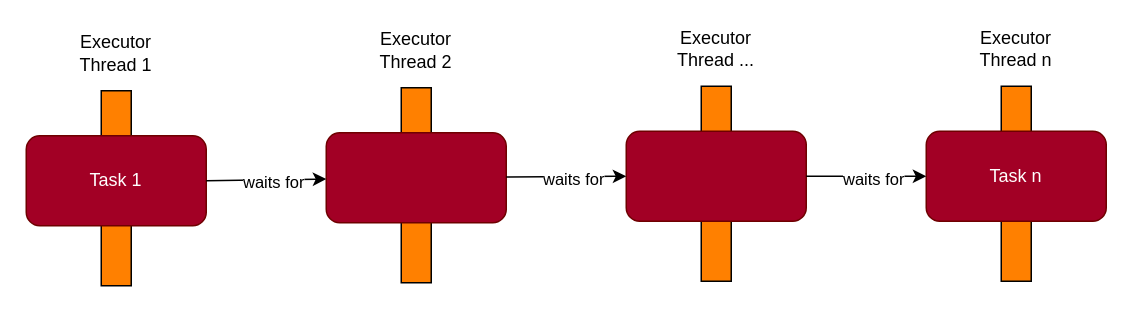
The diagram is 1133 pixels wide and 324 high, and some of its shapes have lost their labels. The box of each missing label's shape, as (x1, y1, x2, y2) in pixels:
Task ...: (625, 130, 806, 221)
Task 2: (325, 131, 506, 223)
